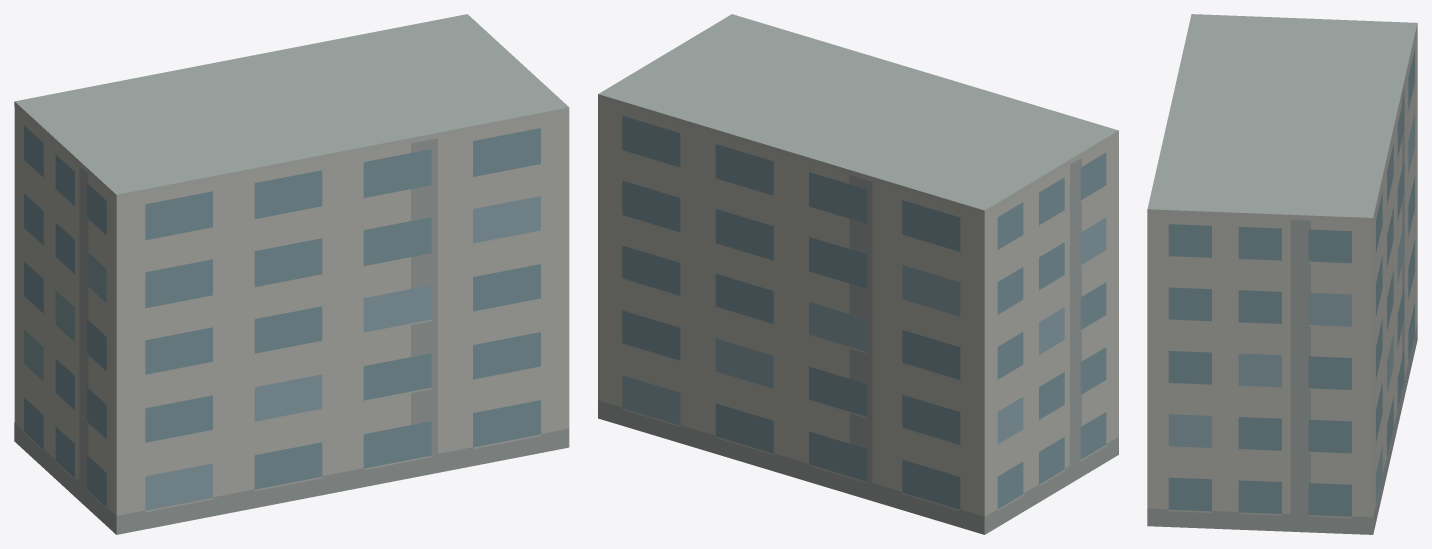
File: survey-upis-32760786.glb
The picture shows the model from 3 angles, left to right: view 1: azimuth 30°, elevation 25°; view 2: azimuth 150°, elevation 25°; view 3: azimuth 270°, elevation 25°; orthographic projection. The views are drawn at different scales.
Visible parts, largest first — view 1: survey-upis-32760786.tmp; view 2: survey-upis-32760786.tmp; view 3: survey-upis-32760786.tmp.
Boxes of the visible parts, box(x1,y1,x2,y2) form: survey-upis-32760786.tmp: box(14, 14, 569, 534); survey-upis-32760786.tmp: box(598, 14, 1118, 534); survey-upis-32760786.tmp: box(1147, 14, 1417, 534).
Size of the model in its own units: 21.06 by 15.25 by 11.79.
